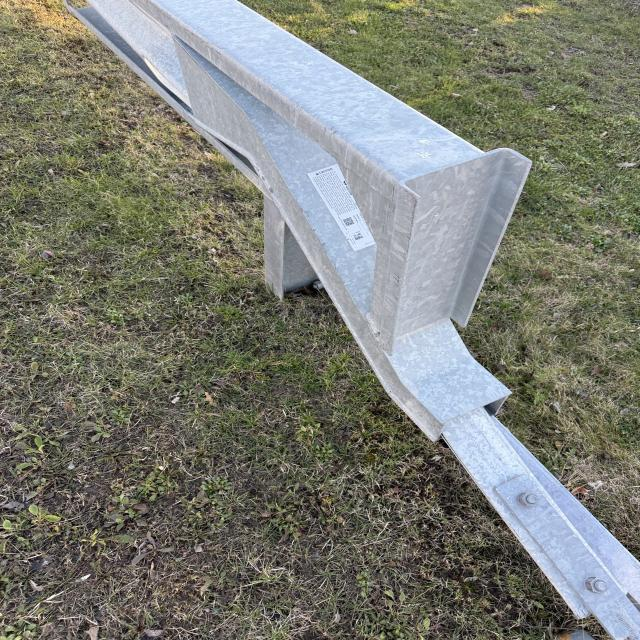Guard rail: (63, 5, 514, 317)
